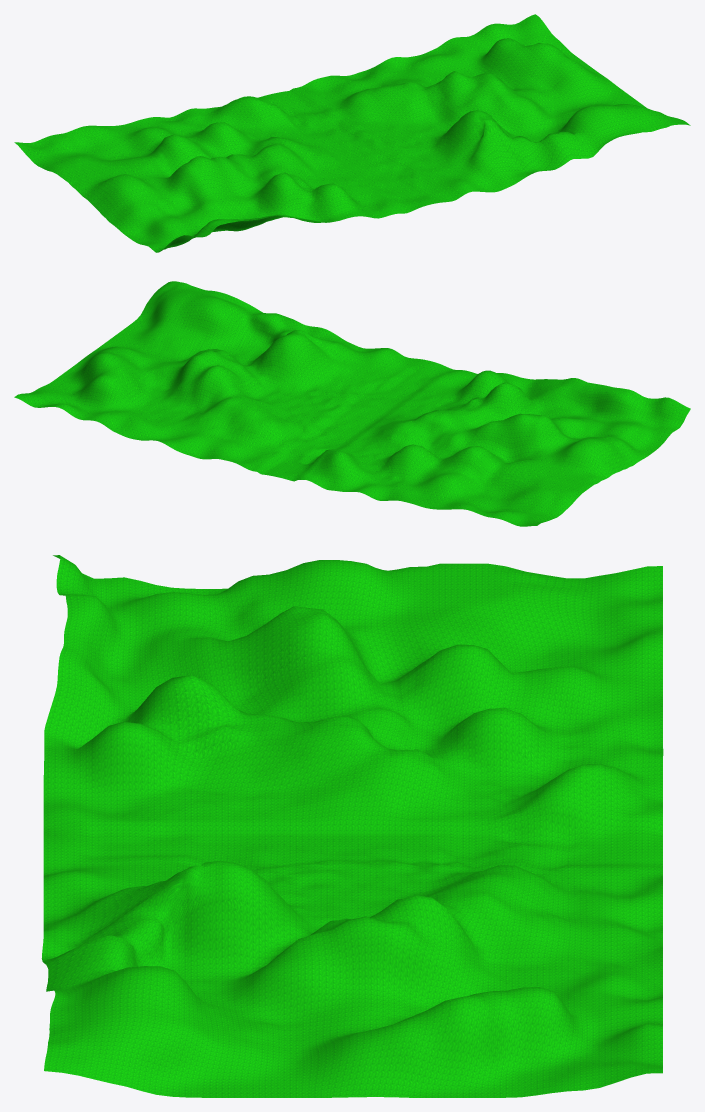
Rendered from Terrain_title2.obj.
The picture shows the model from 3 angles, top to bottom: view 1: azimuth 30°, elevation 25°; view 2: azimuth 150°, elevation 25°; view 3: azimuth 270°, elevation 25°; orthographic projection. The views are drawn at different scales.
Visible parts, largest first — view 1: Terrain_title2; view 2: Terrain_title2; view 3: Terrain_title2.
Part boxes in pixels (bbox=[...]): Terrain_title2: bbox=[14, 14, 690, 252]; Terrain_title2: bbox=[14, 281, 690, 526]; Terrain_title2: bbox=[41, 555, 663, 1097].
Bounding box in the file's own units: 1965 × 147 × 1006.
Materials: 1 (1 with a texture image).
